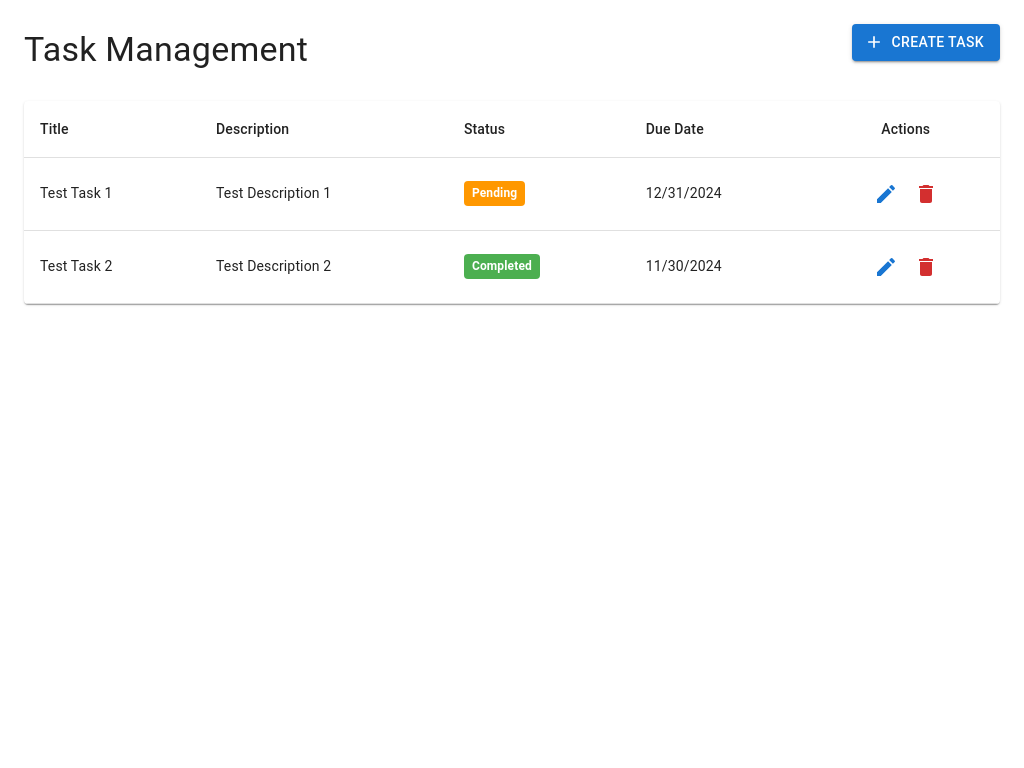
Test case: TaskTable Component › deletes a task
# Open delete confirmation
Step 1. Click the button named "delete" in the row of "Test Task 1" → (926, 194), box x1=906 y1=174 x2=946 y2=214
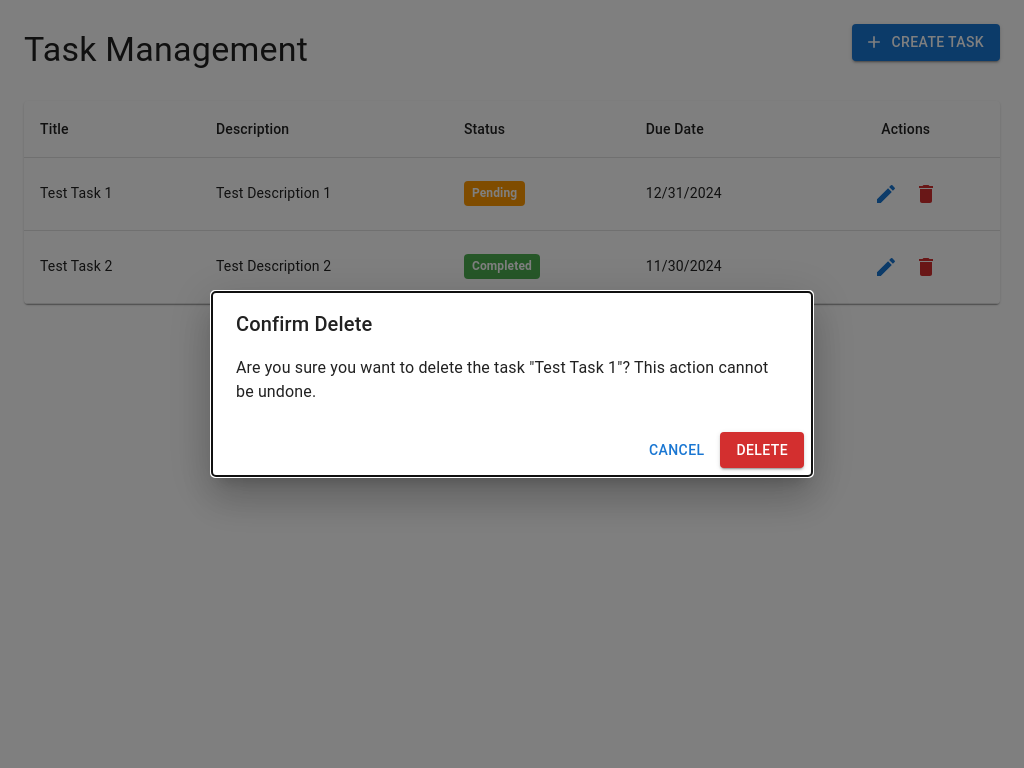
# Confirm deletion
Step 2. Click the button "Delete" → (762, 450), box x1=720 y1=432 x2=804 y2=468
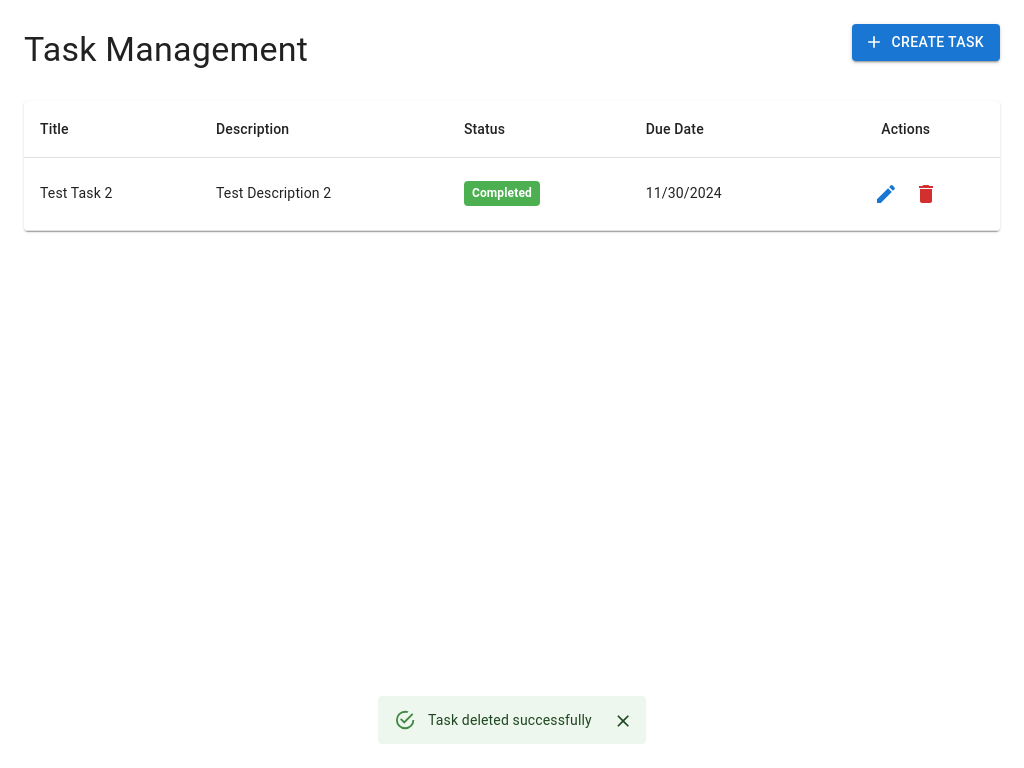
Expected: the text "Test Task 2" is shown, x1=24 y1=157 x2=200 y2=230
Now the text "Test Task 1" is gone
